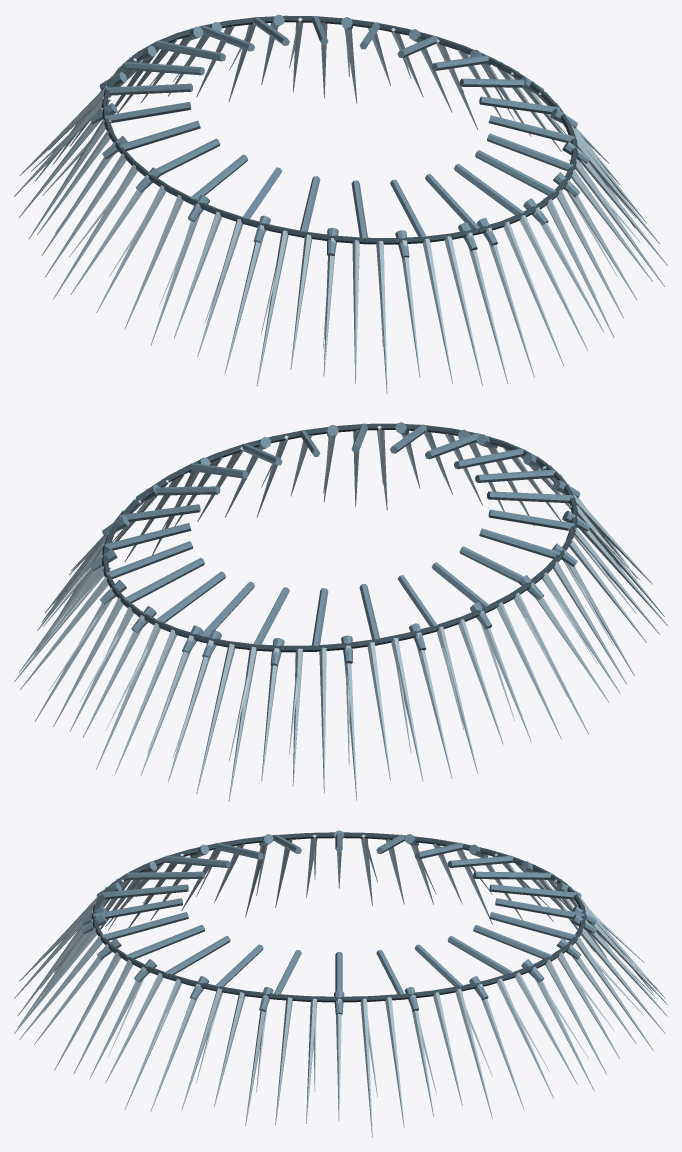
The model's file is legs_v2.glb.
3 renders of one model, top to bottom at view 1: azimuth 30°, elevation 25°; view 2: azimuth 150°, elevation 25°; view 3: azimuth 270°, elevation 25°, orthographic. The views are drawn at different scales.
Visible parts, largest first — view 1: Spine_Radial_Brace_42, Spine_Radial_Brace_40, Leg_Primary_-1_08, Leg_Primary_-1_01, Leg_Primary_-1_16, Spine_Radial_Brace_44, Spine_Radial_Brace_18, Spine_Radial_Brace_20, Leg_Primary_1_04, Leg_Primary_-1_04, Leg_Primary_-1_02, Leg_Primary_1_01 (+33 smaller); view 2: Spine_Radial_Brace_06, Leg_Primary_-1_29, Spine_Radial_Brace_08, Spine_Radial_Brace_04, Spine_Radial_Brace_28, Spine_Radial_Brace_30, Leg_Primary_1_29, Spine_Radial_Brace_26, Leg_Primary_-1_17, Spine_Radial_Brace_32, Leg_Primary_-1_28, Spine_Radial_Brace_10 (+29 smaller); view 3: Spine_Radial_Brace_10, Spine_Radial_Brace_38, Spine_Radial_Brace_14, Spine_Radial_Brace_34, Spine_Radial_Brace_36, Spine_Radial_Brace_12, Spine_Radial_Brace_08, Spine_Radial_Brace_40, Spine_Radial_Brace_16, Spine_Radial_Brace_32, Leg_Primary_1_16, Leg_Primary_1_17 (+27 smaller).
Boxes of the visible parts, x1=… form: Spine_Radial_Brace_42: x1=487, y1=133, x2=573, y2=171; Spine_Radial_Brace_40: x1=475, y1=150, x2=556, y2=195; Leg_Primary_-1_08: x1=256, y1=230, x2=288, y2=386; Leg_Primary_-1_01: x1=444, y1=236, x2=482, y2=385; Leg_Primary_-1_16: x1=53, y1=164, x2=137, y2=299; Spine_Radial_Brace_44: x1=488, y1=115, x2=574, y2=142; Spine_Radial_Brace_18: x1=106, y1=83, x2=192, y2=95; Spine_Radial_Brace_20: x1=105, y1=102, x2=191, y2=122; Leg_Primary_1_04: x1=546, y1=199, x2=614, y2=337; Leg_Primary_-1_04: x1=376, y1=241, x2=387, y2=393; Leg_Primary_-1_02: x1=422, y1=238, x2=452, y2=383; Leg_Primary_1_01: x1=503, y1=221, x2=563, y2=365; Spine_Radial_Brace_06: x1=106, y1=541, x2=192, y2=578; Leg_Primary_-1_29: x1=196, y1=643, x2=235, y2=794; Spine_Radial_Brace_08: x1=123, y1=557, x2=204, y2=602; Spine_Radial_Brace_04: x1=105, y1=523, x2=191, y2=550; Spine_Radial_Brace_28: x1=488, y1=509, x2=574, y2=530; Spine_Radial_Brace_30: x1=487, y1=491, x2=573, y2=503; Leg_Primary_1_29: x1=115, y1=629, x2=176, y2=774; Spine_Radial_Brace_26: x1=479, y1=528, x2=560, y2=558; Leg_Primary_-1_17: x1=497, y1=602, x2=561, y2=739; Spine_Radial_Brace_32: x1=475, y1=469, x2=556, y2=482; Leg_Primary_-1_28: x1=228, y1=646, x2=256, y2=801; Spine_Radial_Brace_10: x1=155, y1=571, x2=225, y2=622; Spine_Radial_Brace_10: x1=489, y1=912, x2=576, y2=940; Spine_Radial_Brace_38: x1=101, y1=912, x2=188, y2=940; Spine_Radial_Brace_14: x1=489, y1=884, x2=576, y2=899; Spine_Radial_Brace_34: x1=101, y1=884, x2=188, y2=899; Spine_Radial_Brace_36: x1=93, y1=898, x2=182, y2=918; Spine_Radial_Brace_12: x1=495, y1=898, x2=584, y2=918; Spine_Radial_Brace_08: x1=473, y1=924, x2=552, y2=958; Spine_Radial_Brace_40: x1=126, y1=925, x2=204, y2=958; Spine_Radial_Brace_16: x1=473, y1=871, x2=552, y2=879; Spine_Radial_Brace_32: x1=126, y1=871, x2=204, y2=879; Leg_Primary_1_16: x1=360, y1=998, x2=372, y2=1137; Leg_Primary_1_17: x1=385, y1=997, x2=404, y2=1127.
Size of the model in its own units: 14.3 by 3.53 by 16.97.
